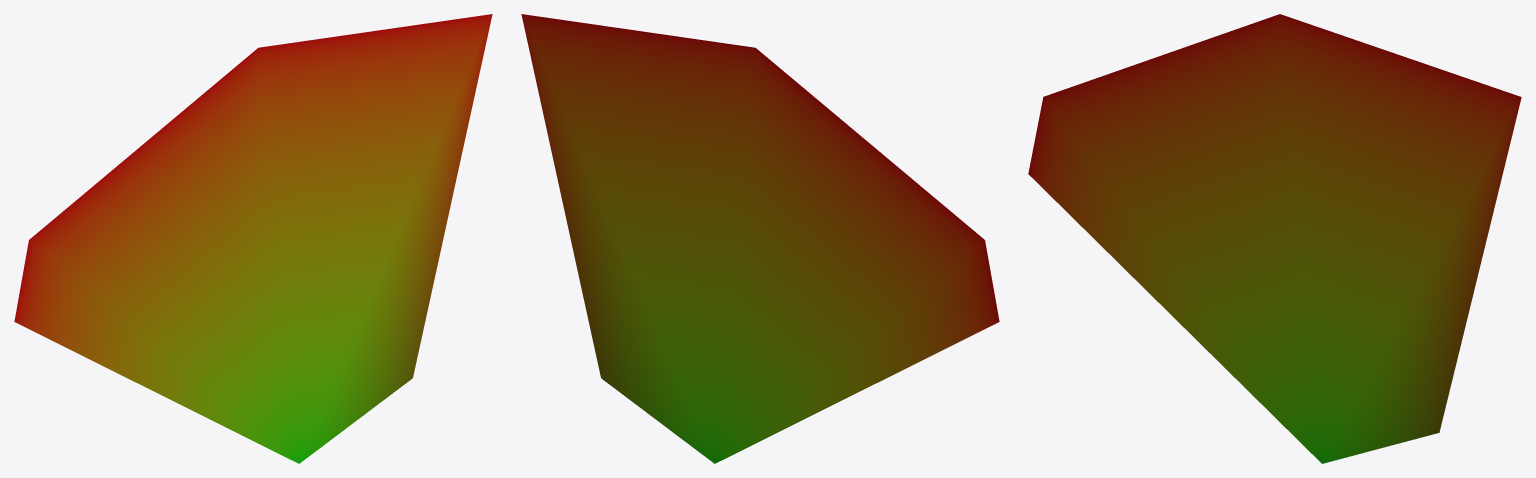
Rendered from Field Poppy_LOD4_Var6_vmcobd0ja.fbx.
3 views of the same model, side by side, from view 1: azimuth 30°, elevation 25°; view 2: azimuth 150°, elevation 25°; view 3: azimuth 330°, elevation 25° (orthographic). The views are drawn at different scales.
Visible parts, largest first — view 1: _jhp1_Var6_LOD4; view 2: _jhp1_Var6_LOD4; view 3: _jhp1_Var6_LOD4.
Boxes of the visible parts, box(x1,y1,x2,y2) form: _jhp1_Var6_LOD4: box(14, 14, 492, 463); _jhp1_Var6_LOD4: box(521, 14, 999, 463); _jhp1_Var6_LOD4: box(1028, 14, 1521, 463).
Bounding box in the file's own units: 48.33 × 41.16 × 4.91e-06.
